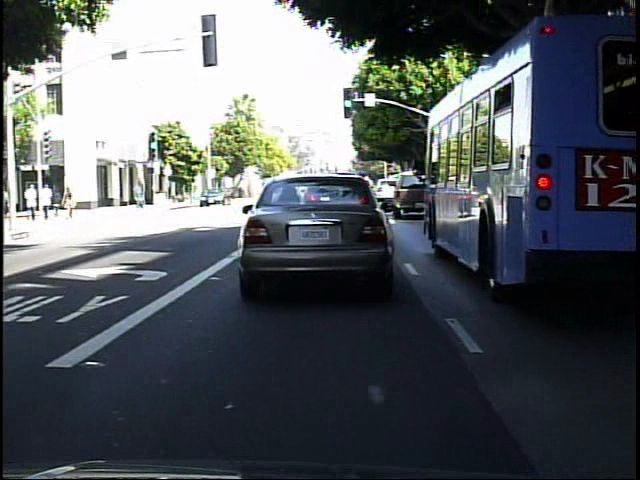person: (39, 182, 54, 222), (130, 178, 147, 213), (61, 182, 76, 220), (51, 185, 66, 221), (25, 181, 38, 222), (67, 184, 68, 222)
